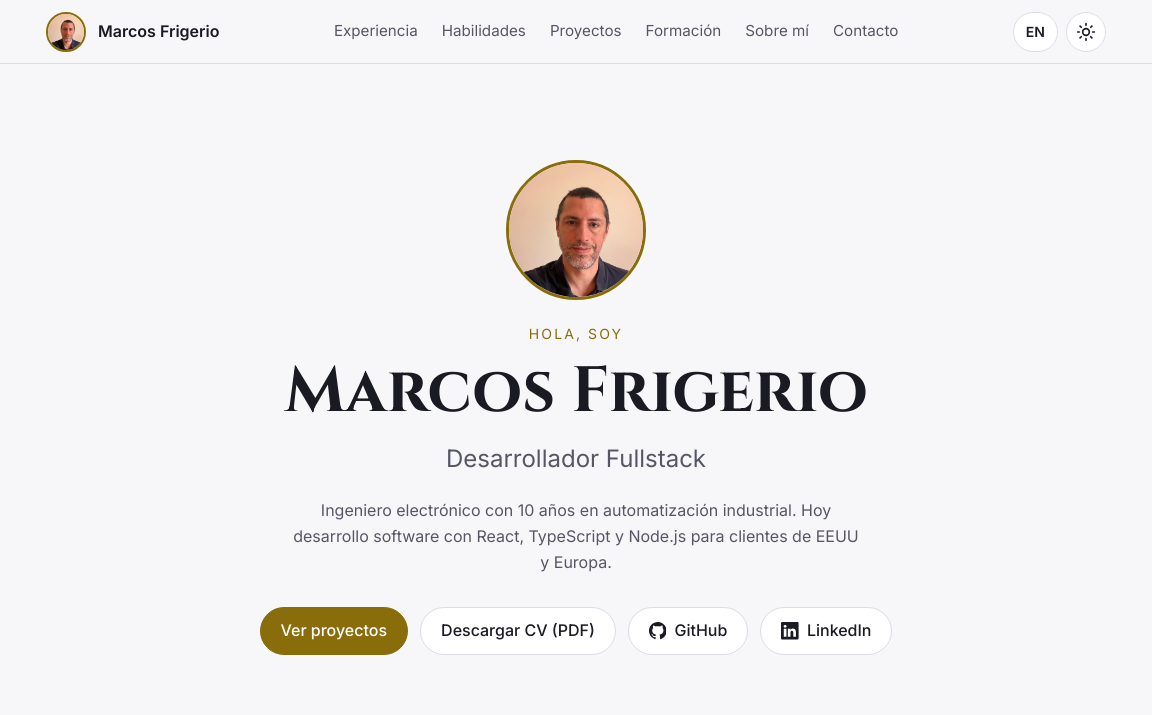
Test: App › cambia el idioma y actualiza el atributo lang
Step 1. Click the button with aria-label "Cambiar idioma a inglés" → point(1035, 32), box [1013, 12, 1058, 52]
(page scrolled)
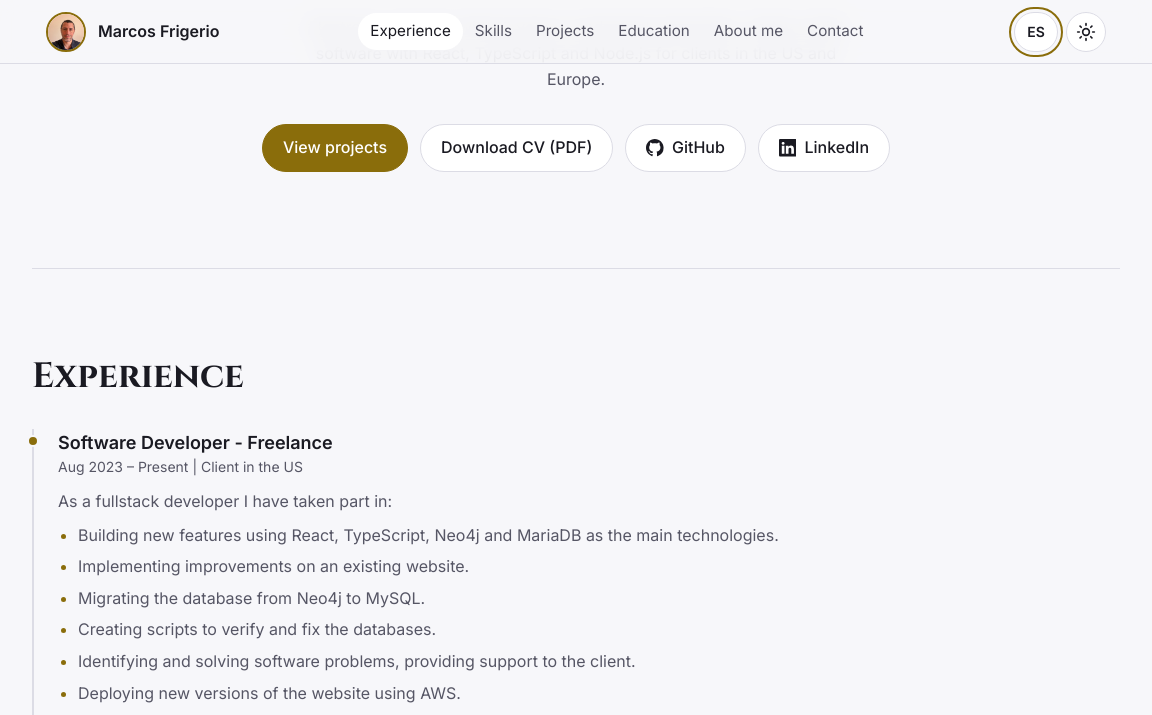
Result: the heading "Experience" is shown at [32, 353, 244, 400]
